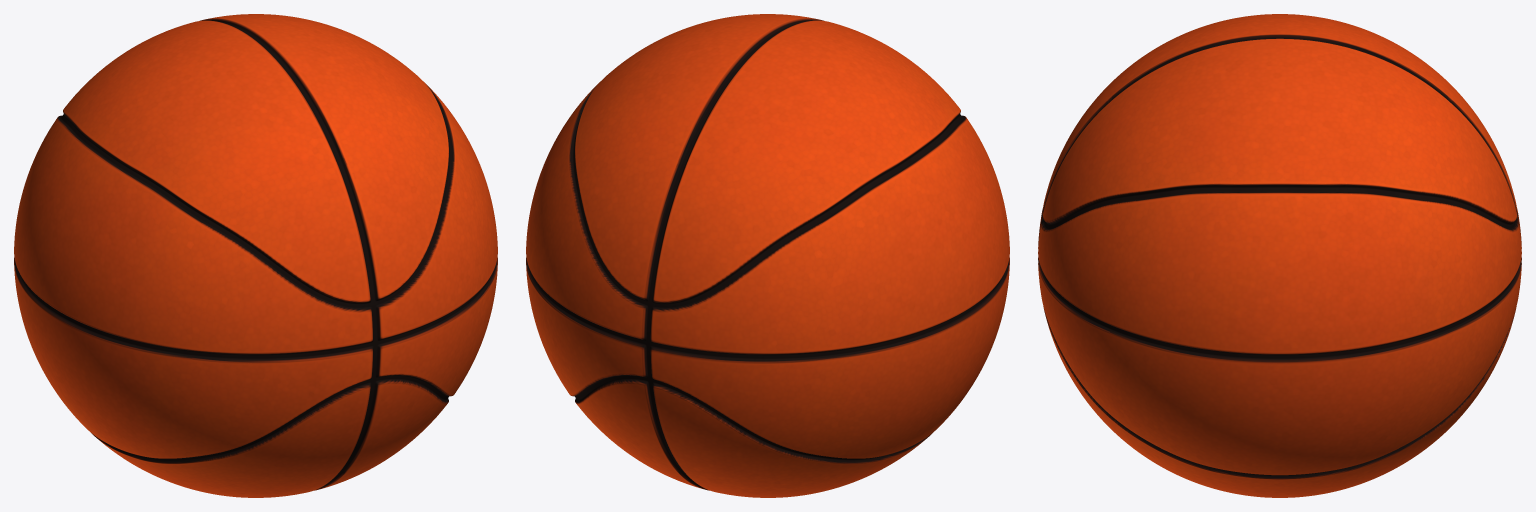
Rendered from basketball.glb.
3 views of the same model, side by side, from view 1: azimuth 30°, elevation 25°; view 2: azimuth 150°, elevation 25°; view 3: azimuth 270°, elevation 25° (orthographic).
Parts seen in each view (by area): view 1: basketball; view 2: basketball; view 3: basketball.
Boxes of the visible parts, x1,y1,x2,y2 form: basketball: (14,14,497,497); basketball: (526,14,1009,497); basketball: (1038,14,1521,497).
Size of the model in its own units: 1.89 by 1.89 by 1.89.
Materials: 1 (1 with a texture image).
